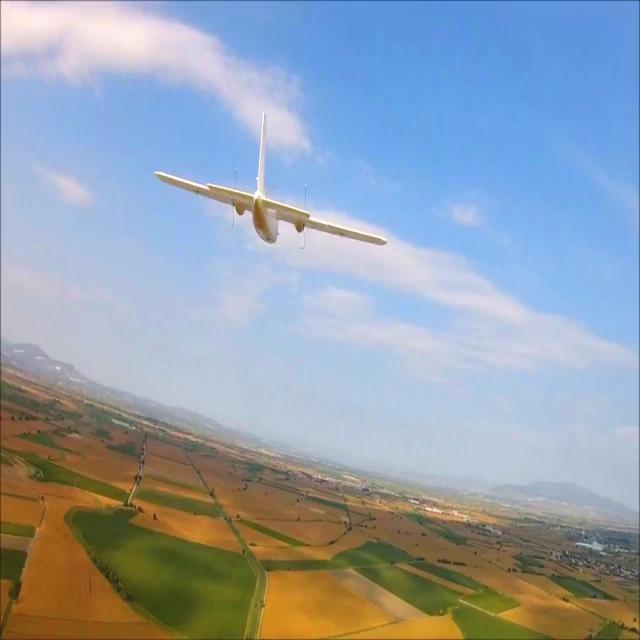iha: (142, 94, 399, 285)
